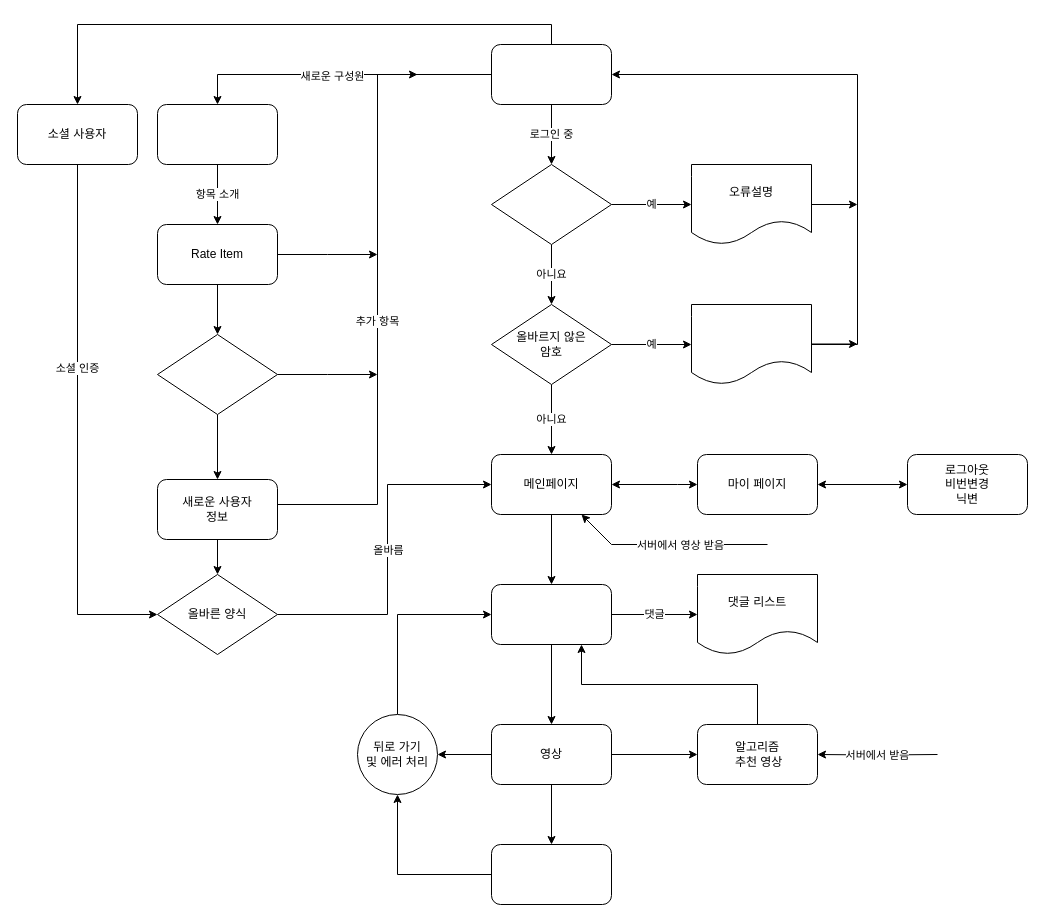
Some shapes in this 1045 by 922 pixel diagram are drawn without their labels. The box of each missing label's shape, as (x1, y1, x2, y2) in pixels:
로그인: (490, 44, 612, 104)
새로운 사용자: (156, 104, 278, 164)
실시간 스트리밍: (490, 844, 612, 904)
암호에 대한 힌트 제공: (690, 304, 812, 384)
영상 설명 페이지: (490, 584, 612, 644)
올바르지 않은 사용자: (490, 164, 612, 244)
체크항목: (156, 334, 278, 414)
